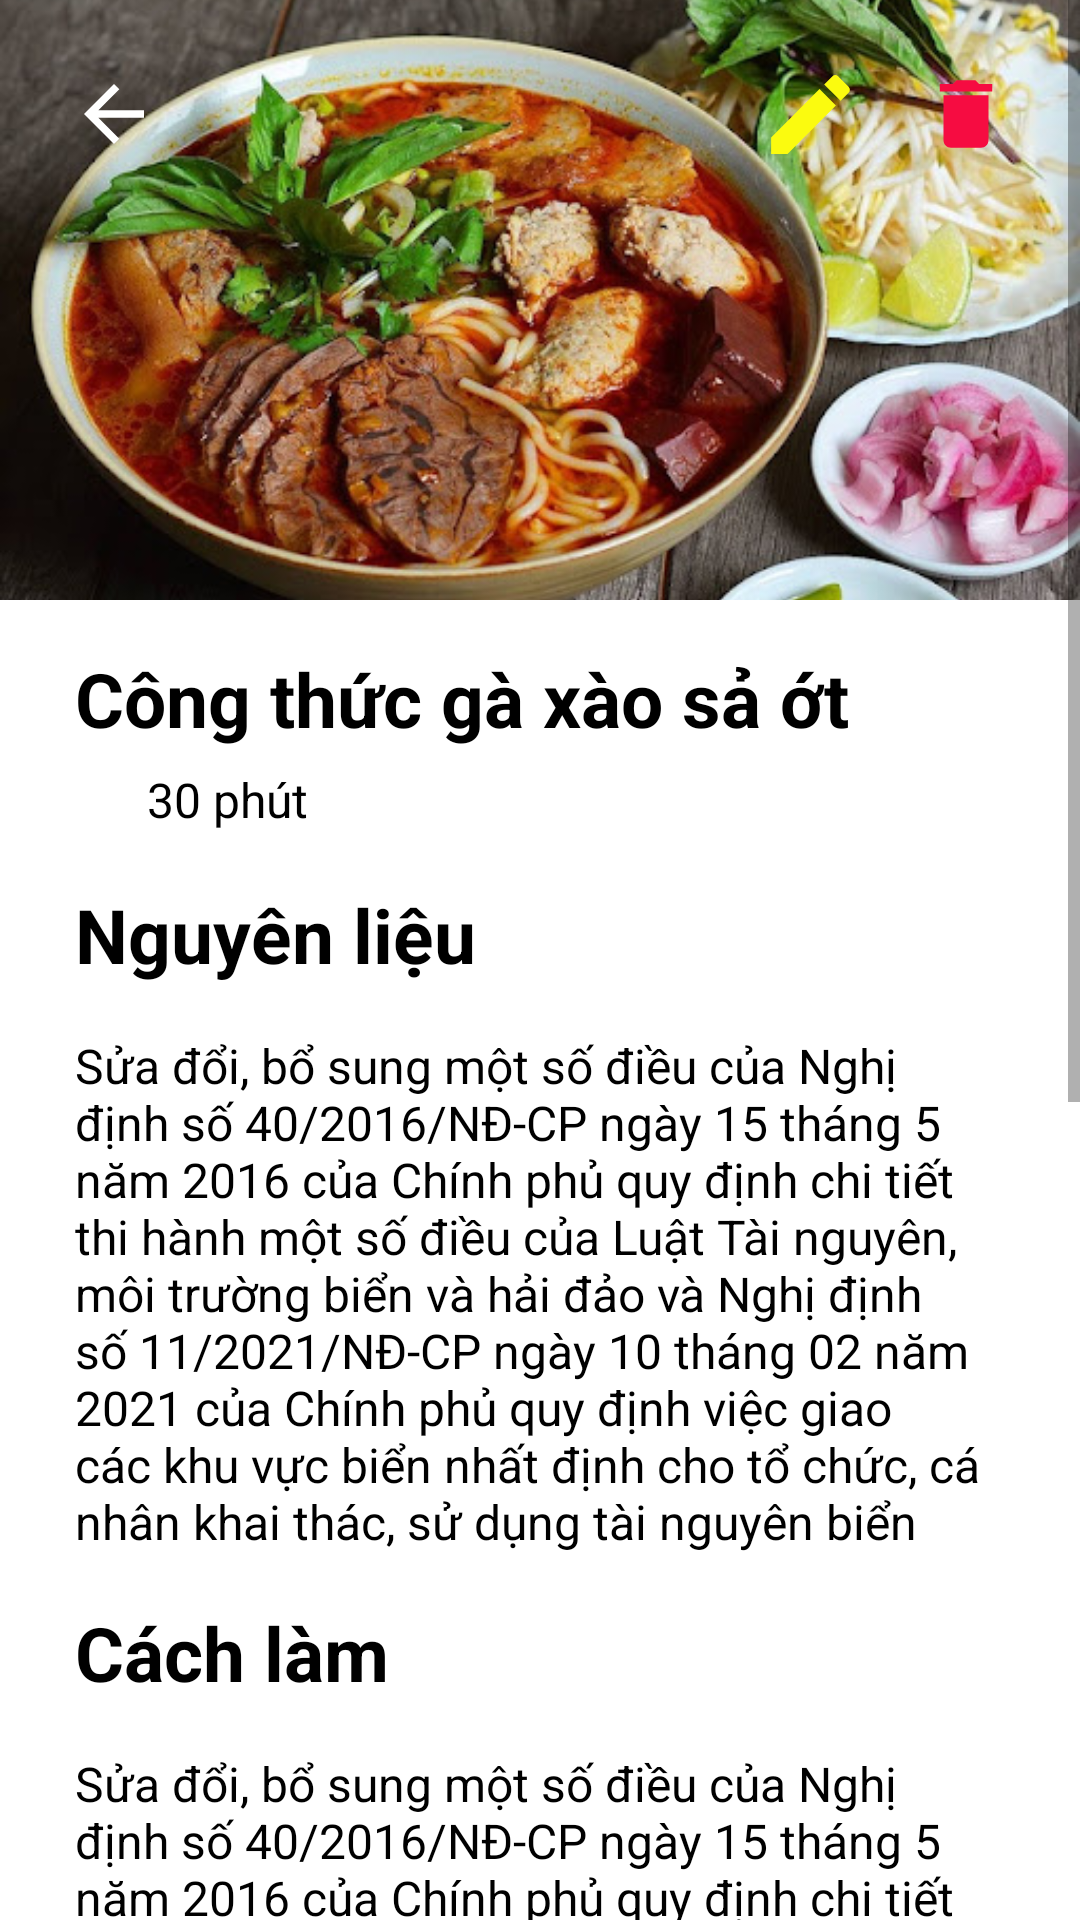

Icons on this 1080×1920 Android screen, each with the point to tap as (x=x, y=y):
back: (x=114, y=114)
delete: (x=966, y=114)
edit: (x=810, y=114)
